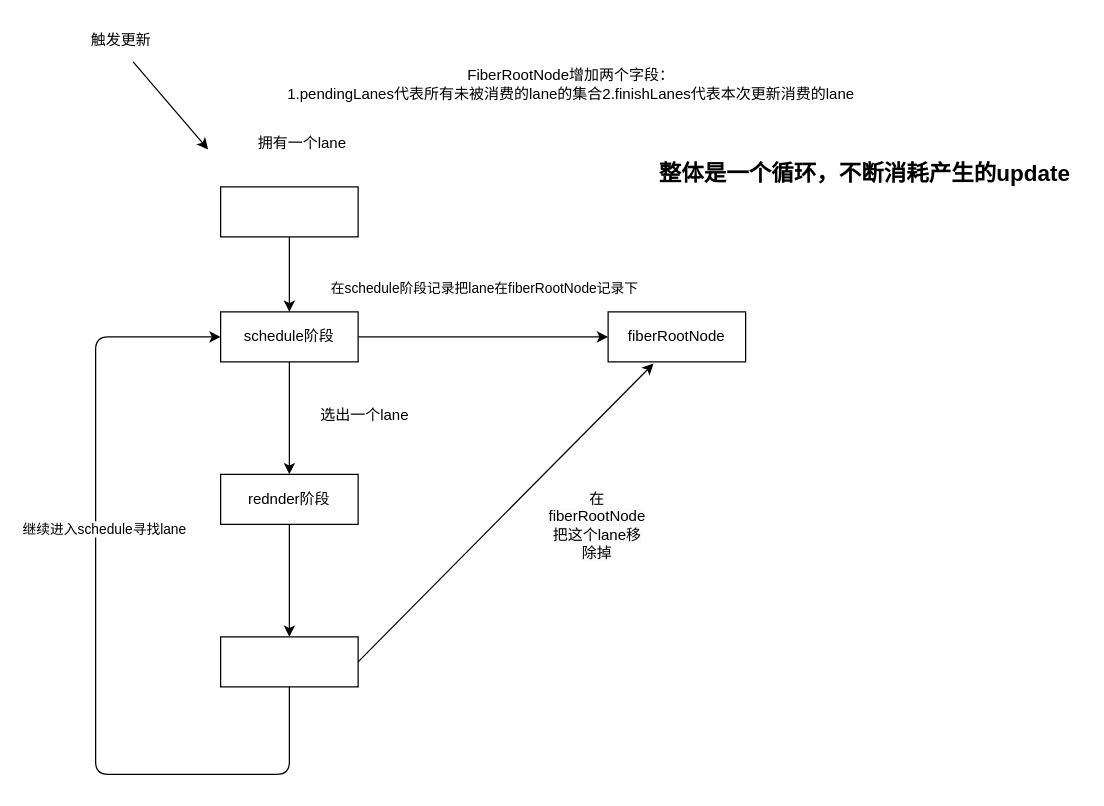
The diagram is 1104 pixels wide and 806 high, and some of its shapes have lost their labels. The box of each missing label's shape, as (x1, y1, x2, y2) in pixels:
commit阶段: (219, 636, 358, 687)
update: (219, 186, 358, 237)
